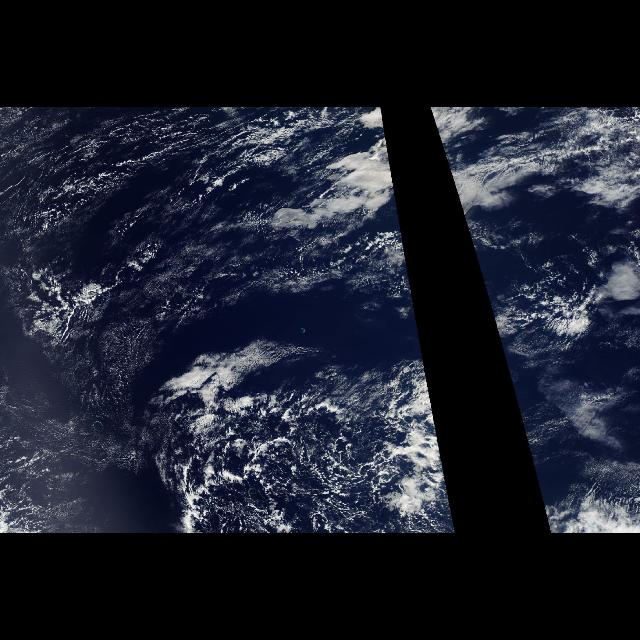Gravel: (162, 339, 412, 533)
Sugar: (2, 111, 410, 528)
